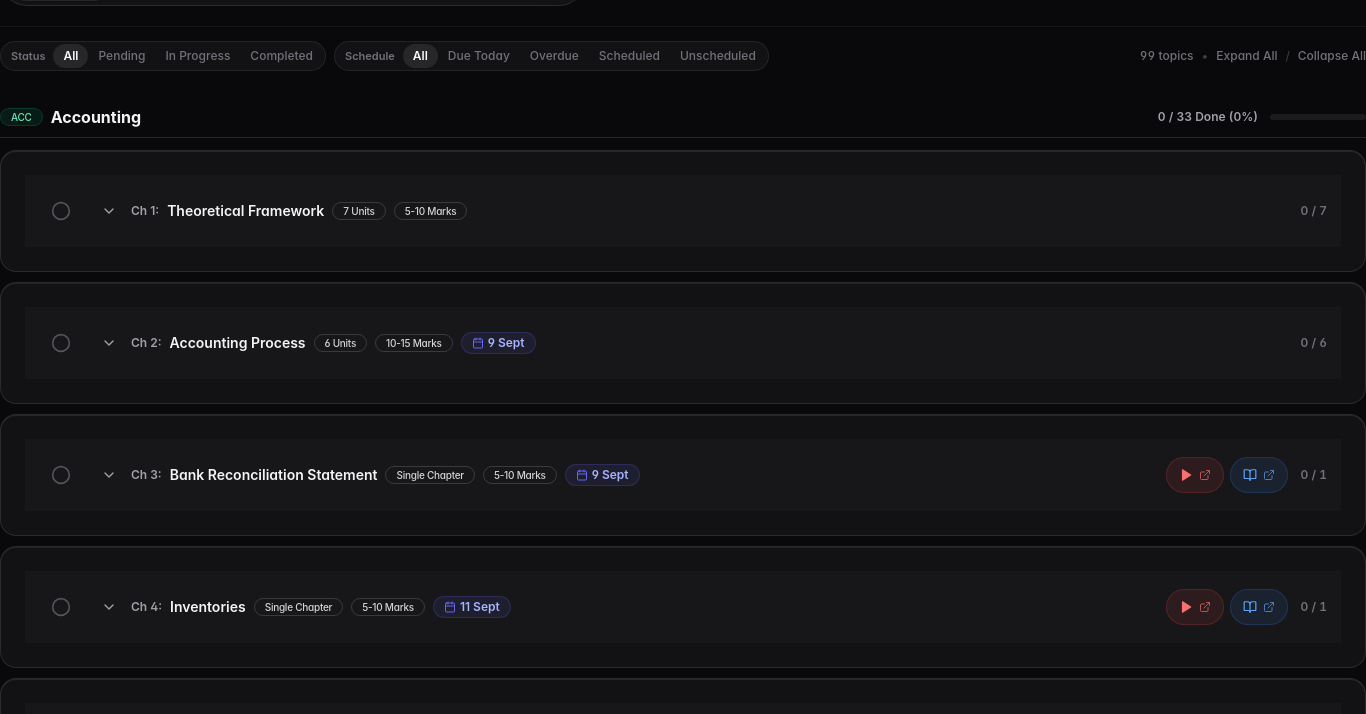
Study Schedule & Interactive Calendar Integration › ChecklistView Date Badge Integration › displays scheduled target date badges on chapter accordions and topics
Click the button "Expand All".
click(1247, 56)  # box [1216,48,1278,64]
(page scrolled)
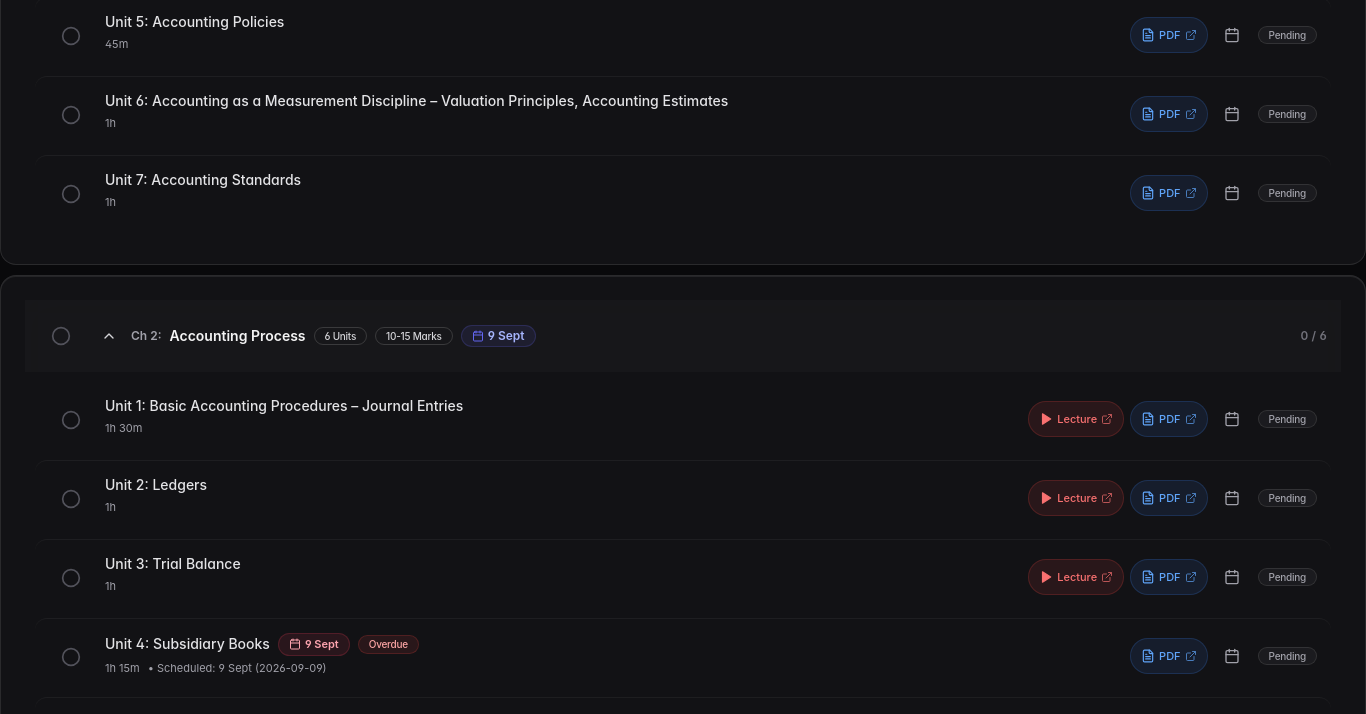
Expected: the 1st text "9 Sept" is shown, [488,328,525,344]
Now the element titled "Scheduled target date:" next to "Unit 4: Subsidiary Books" is shown, box [278,633,350,656]
